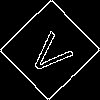V: (24, 24, 81, 80)
